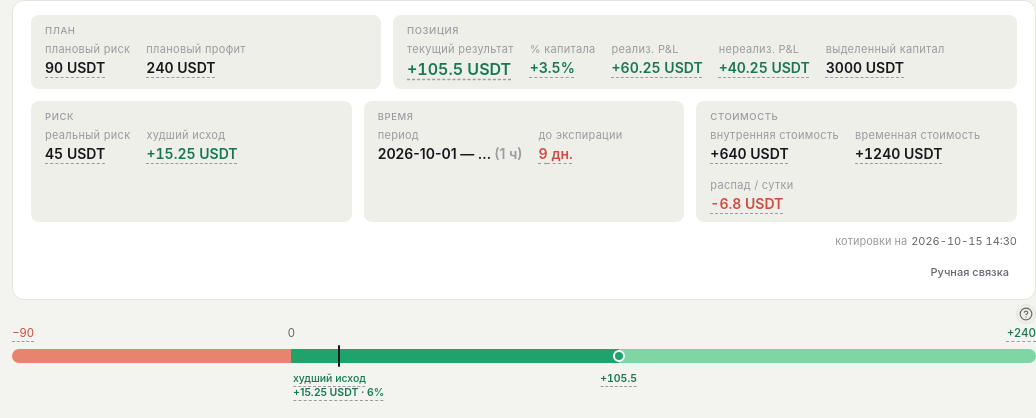
Test: ConstructionMetricStrip: подсказки числовых метрик сводки › подсказка «% капитала» даёт раздел на процент и на капитал
// наведение на значение процента.
Hover over the button "+3.5%": [552, 68] box [530, 59, 575, 76]
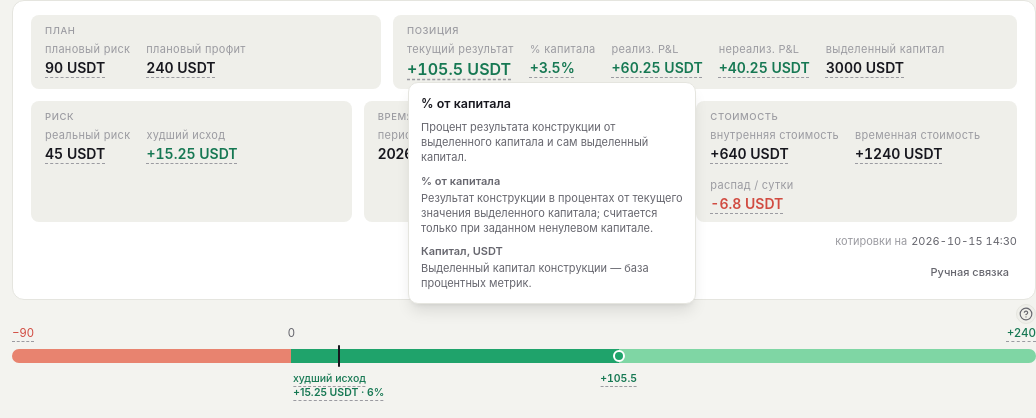
Expected: the tooltip is shown, [408, 82, 696, 304]
Expected: the tooltip shows "% от капитала", [421, 96, 511, 111]
Expected: the tooltip shows "Результат конструкции в процентах от текущего значения выделенного капитала; считается только при заданном ненулевом капитале.", [421, 191, 683, 235]
